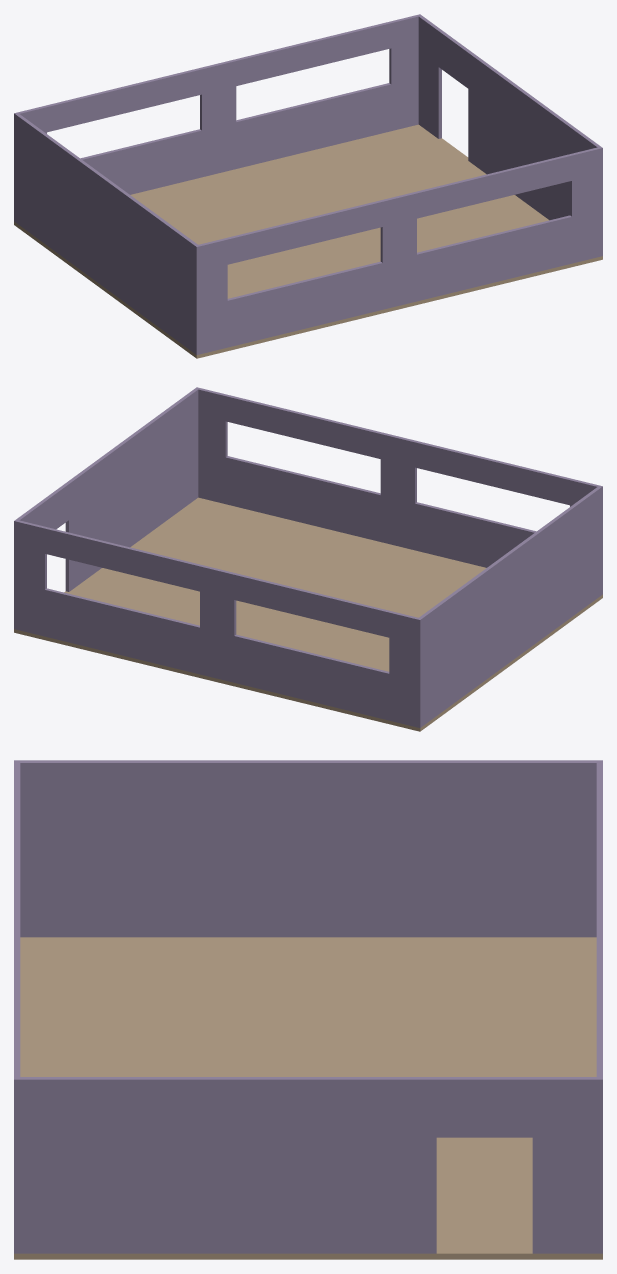
File: warehouse.dae
3 renders of one model, top to bottom at view 1: azimuth 30°, elevation 25°; view 2: azimuth 150°, elevation 25°; view 3: azimuth 270°, elevation 25°, orthographic. The views are drawn at different scales.
Parts seen in each view (by area): view 1: node0, node4, node2, node1, node3; view 2: node2, node4, node0, node1, node3; view 3: node1, node4, node3, node0, node2.
Boxes of the visible parts, x1,y1,x2,y2 form: node0: [198, 147, 599, 354]; node4: [14, 124, 602, 358]; node2: [17, 15, 418, 194]; node1: [14, 112, 200, 354]; node3: [417, 14, 602, 256]; node2: [17, 520, 418, 727]; node4: [14, 497, 602, 731]; node0: [198, 388, 599, 567]; node1: [416, 485, 602, 727]; node3: [14, 387, 199, 629]; node1: [14, 760, 602, 937]; node4: [14, 937, 602, 1259]; node3: [14, 1077, 602, 1253]; node0: [14, 763, 20, 1076]; node2: [596, 763, 602, 1076].
Bounding box in the file's own units: 23.6 × 18.4 × 6.2.
